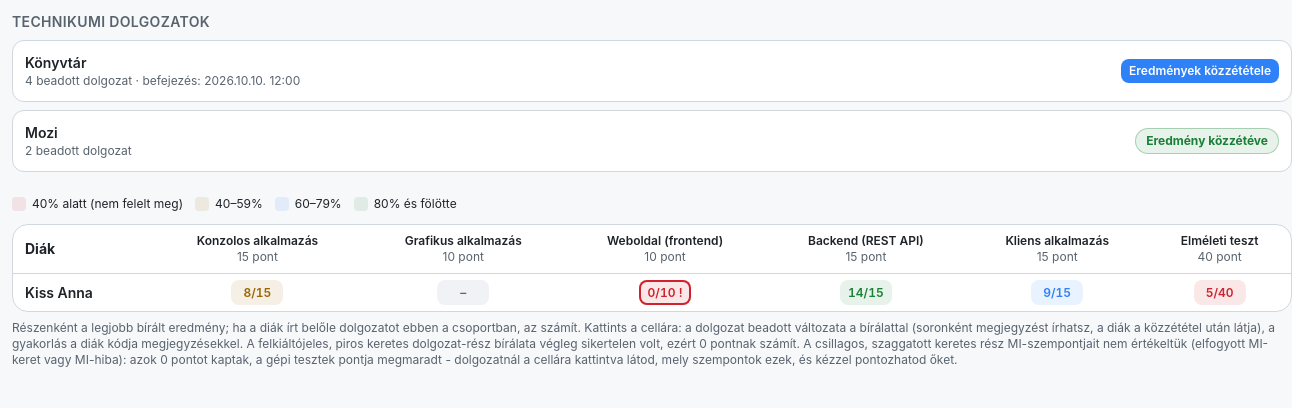
VizsgareszTerkepComponent › közzététel: ha egyes részek bírálata végleg sikertelen, figyelmeztet (0 pont)
Click the button "Eredmények közzététele" at (1200, 71), box [1121,59,1279,83]
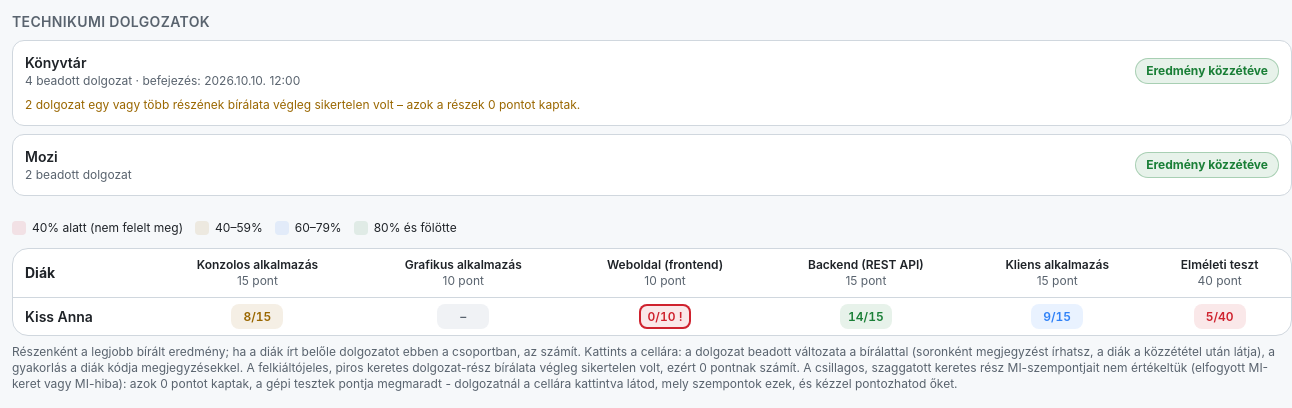
Result: the message with test id "publish-warning" shows "2 dolgozat egy vagy több részének bírálata végleg sikertelen" at [25,97,580,112]
